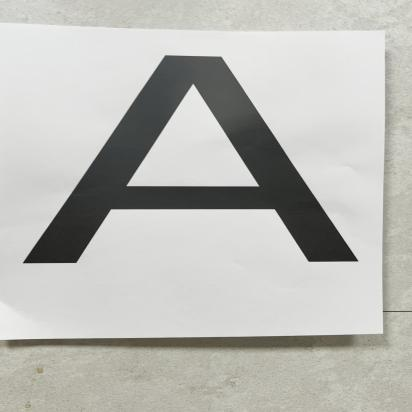seat: (8, 37, 378, 273)
